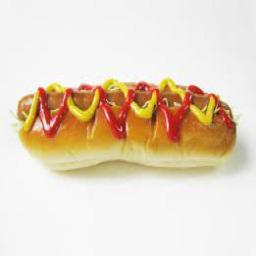hotdog: (14, 82, 240, 175)
